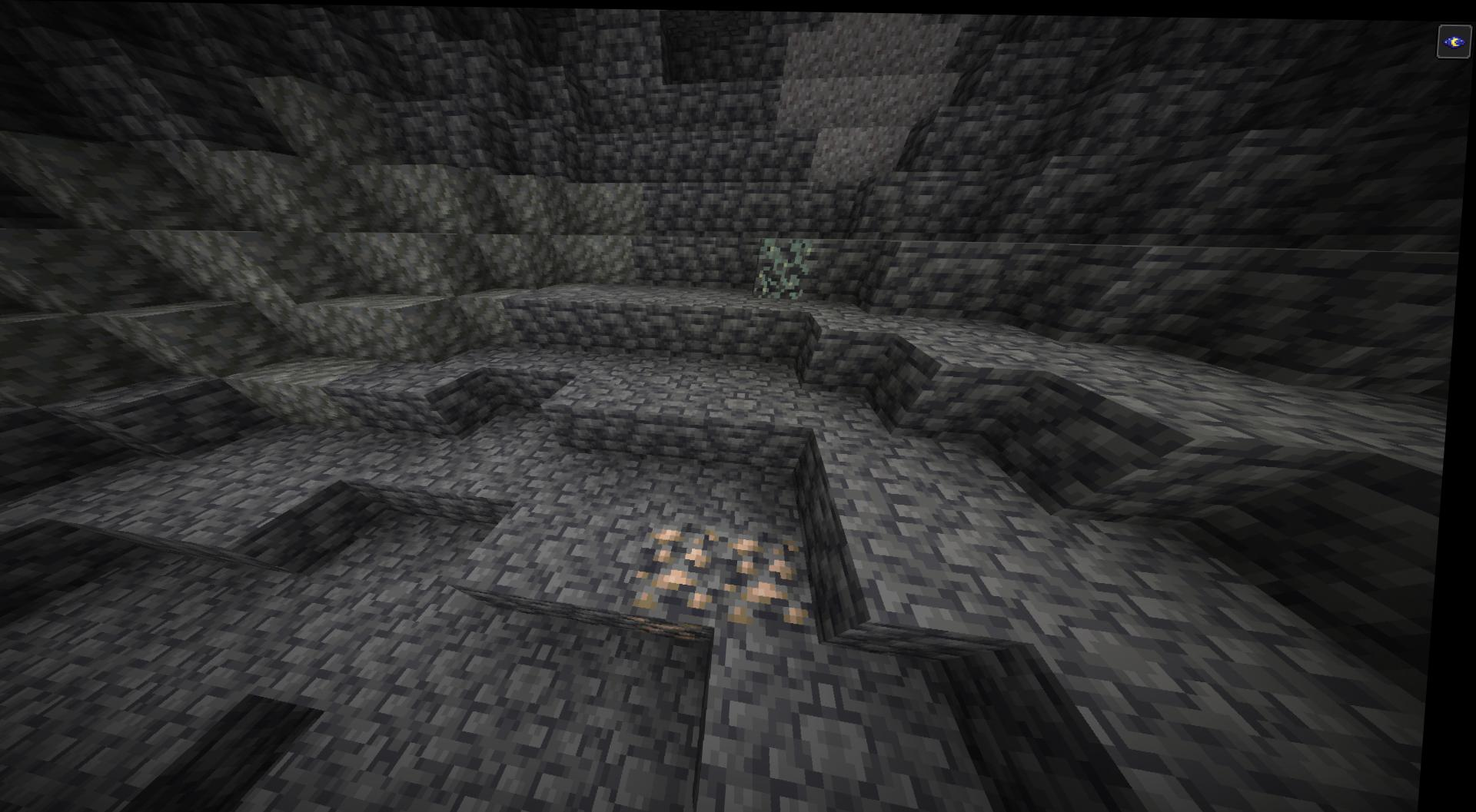iron ore: (633, 520, 738, 622), (727, 531, 828, 627)
